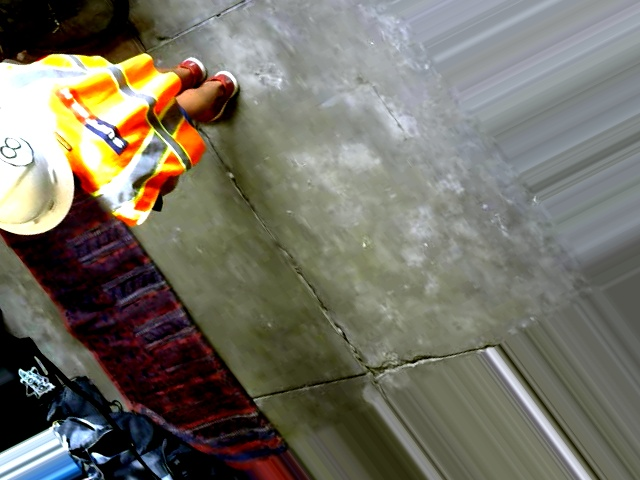eight: (0, 119, 40, 174)
